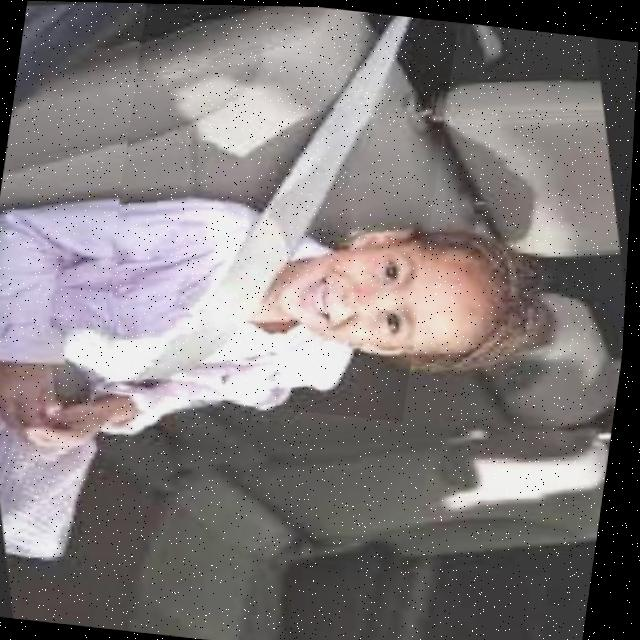seatbelt: (95, 2, 458, 419)
